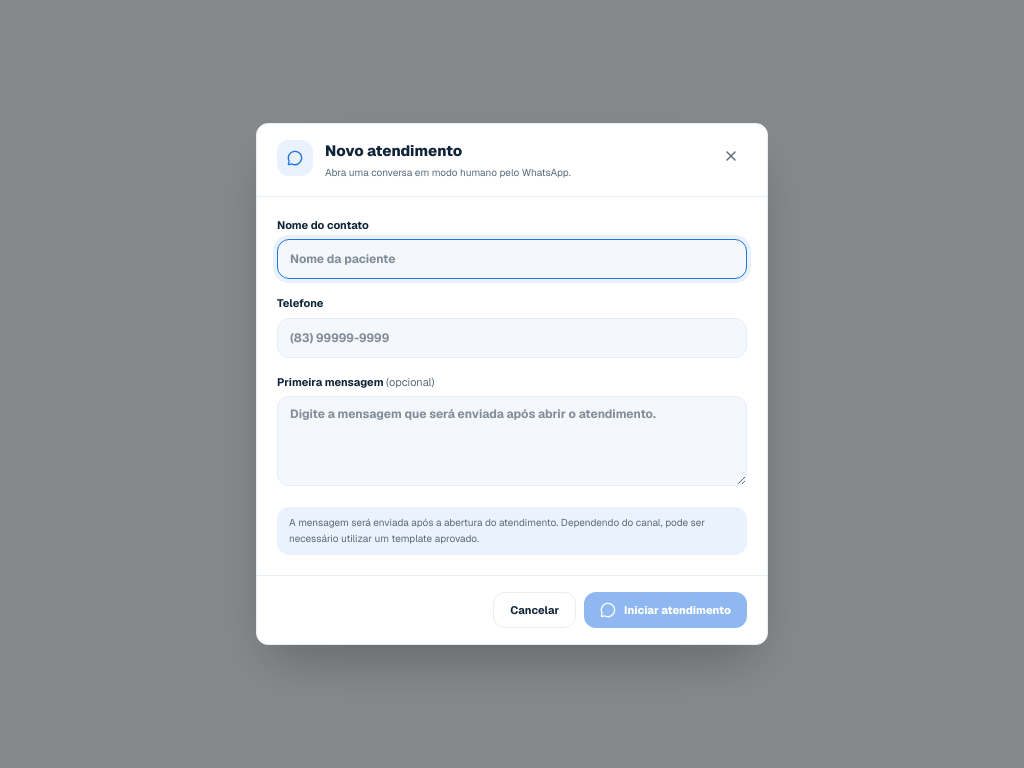
it: IniciarAtendimentoDialog › should_preserve_fields_on_failure_and_prevent_duplicate_submission
The width and height of the screenshot is (1024, 768).
Type "Maria Teste" into the field labelled "Nome do contato" at (512, 259), box [277,239,747,279]
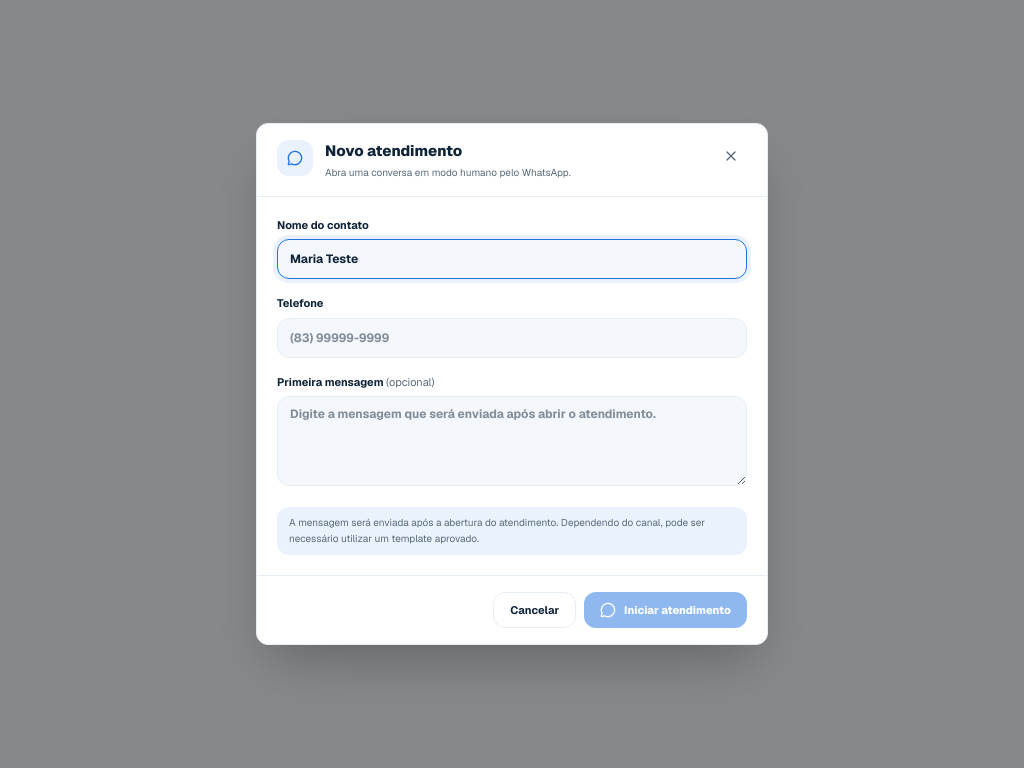
Type "83999999999" into the field labelled "Telefone" at (512, 338), box [277,318,747,358]
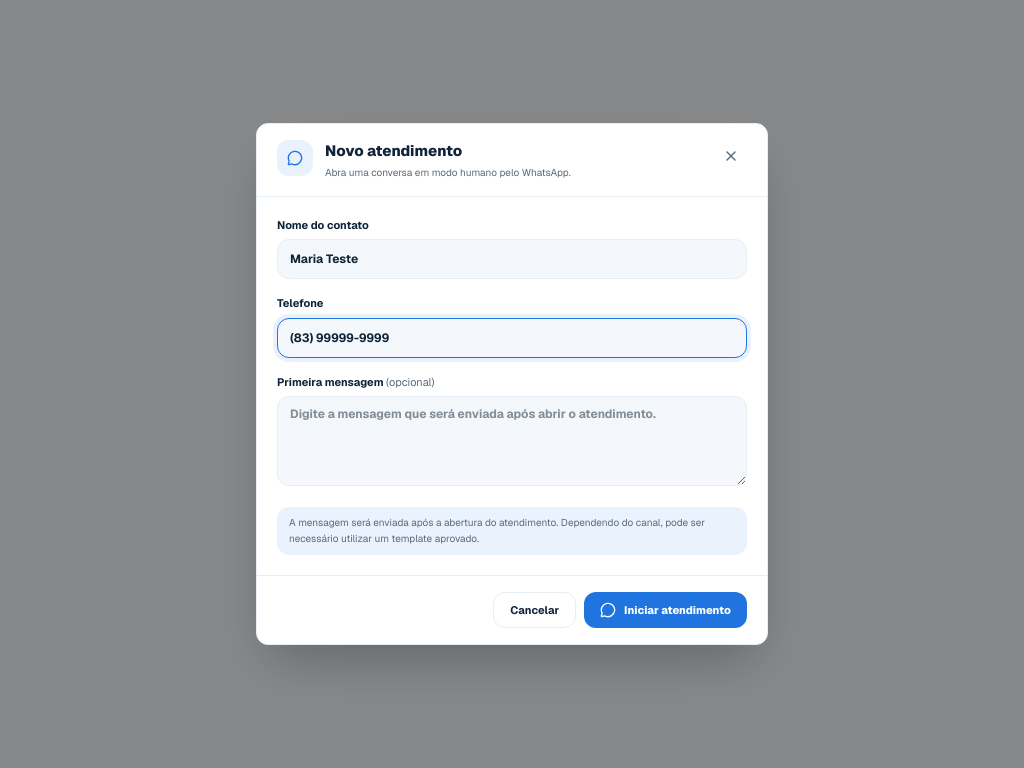
Type "Olá, teste" into the text box labelled "Primeira mensagem (opcional)" at (512, 441), box [277,396,747,486]
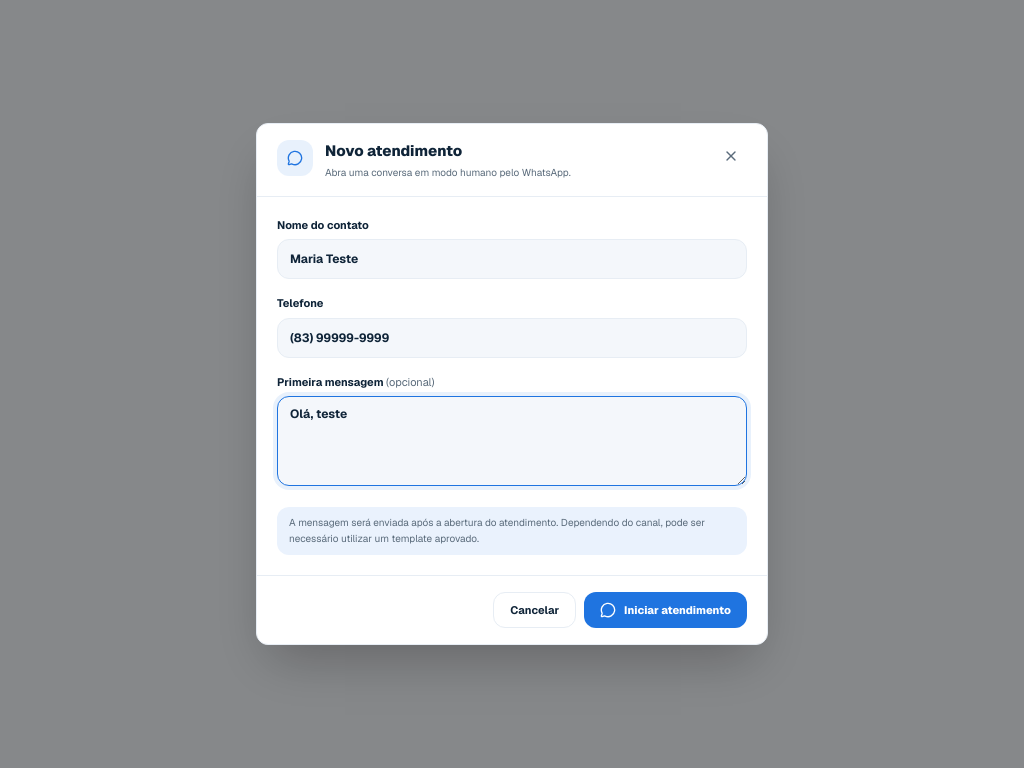
Click the button "Iniciar atendimento" at (666, 610), box [584,592,747,628]
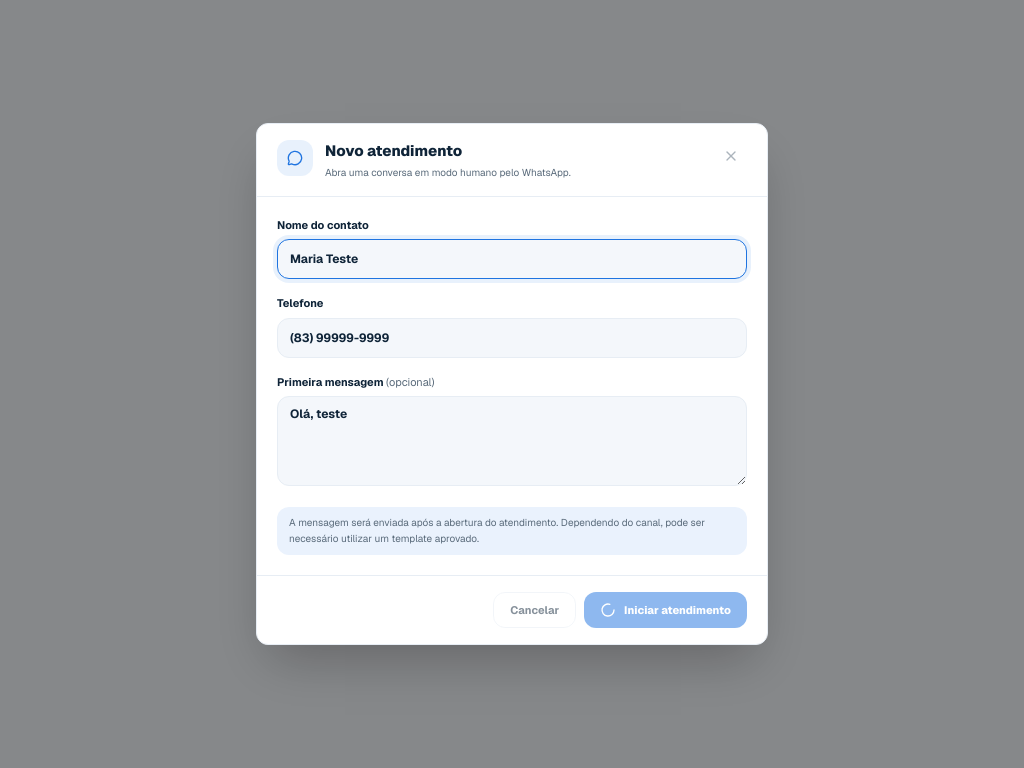
Click the button "Iniciar atendimento" at (666, 610), box [584,592,747,628]
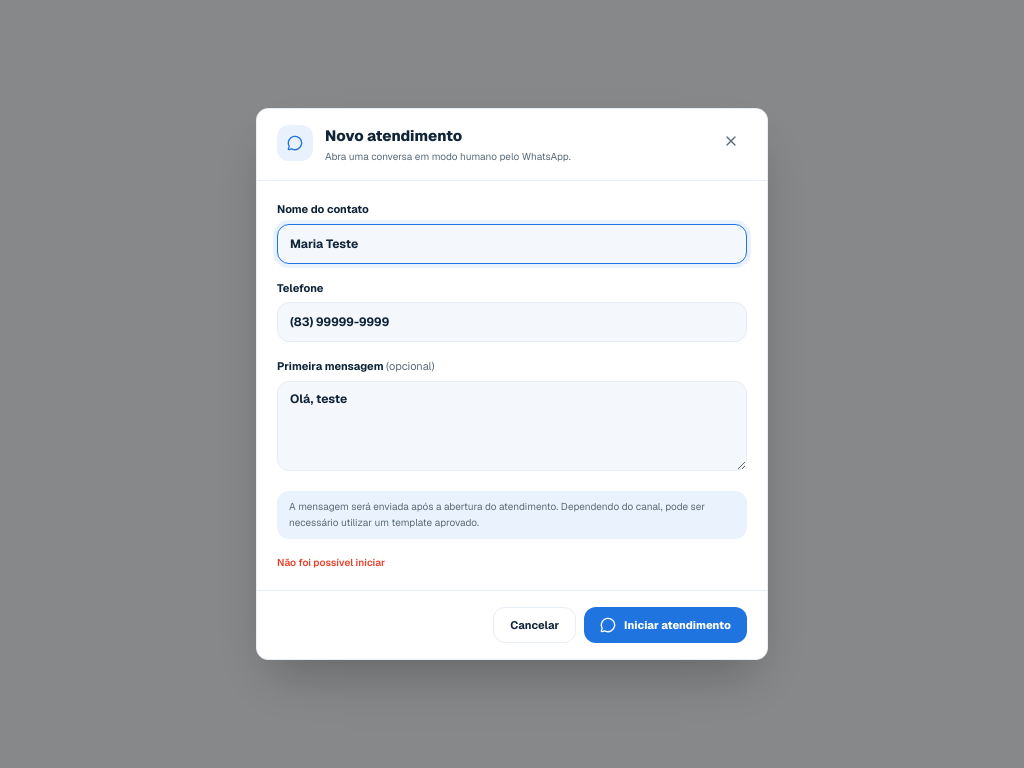
Now the field labelled "Telefone" holds "(83) 99999-9999", box [277,302,747,342]
Now the message reads "Não foi possível iniciar", box [277,556,385,569]
